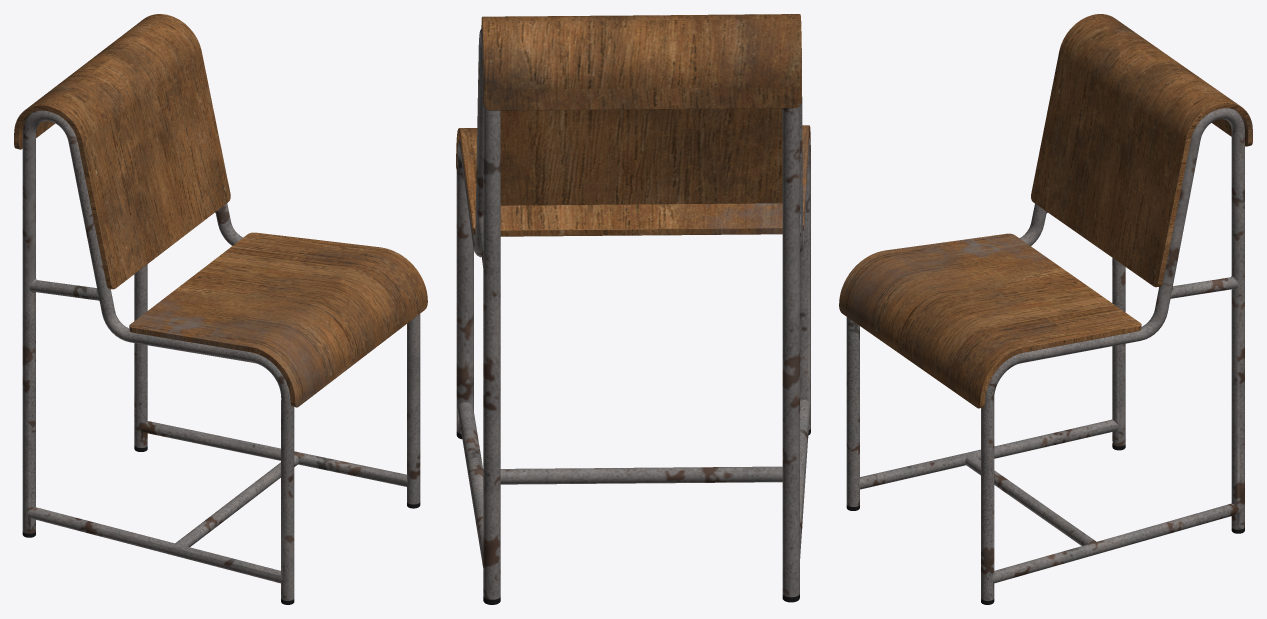
3 views of the same model, side by side, from view 1: azimuth 30°, elevation 25°; view 2: azimuth 150°, elevation 25°; view 3: azimuth 270°, elevation 25° (orthographic). The views are drawn at different scales.
Visible parts, largest first — view 1: Schienale_5800E2A1_C8D3_4395_842D_6A6AC5724DC0_, Seduta_2996FDD3_BA09_4187_B6E5_C03682797FD2_, Tubolare_891A3C75_E227_493F_87BD_283B9503571A_; view 2: Schienale_5800E2A1_C8D3_4395_842D_6A6AC5724DC0_, Tubolare_891A3C75_E227_493F_87BD_283B9503571A_, Seduta_2996FDD3_BA09_4187_B6E5_C03682797FD2_; view 3: Schienale_5800E2A1_C8D3_4395_842D_6A6AC5724DC0_, Seduta_2996FDD3_BA09_4187_B6E5_C03682797FD2_, Tubolare_891A3C75_E227_493F_87BD_283B9503571A_.
Part boxes in pixels (box(x1,y1,x2,y2)): Schienale_5800E2A1_C8D3_4395_842D_6A6AC5724DC0_: box(14, 14, 230, 289); Seduta_2996FDD3_BA09_4187_B6E5_C03682797FD2_: box(129, 232, 427, 407); Tubolare_891A3C75_E227_493F_87BD_283B9503571A_: box(22, 110, 420, 600); Schienale_5800E2A1_C8D3_4395_842D_6A6AC5724DC0_: box(481, 14, 801, 205); Tubolare_891A3C75_E227_493F_87BD_283B9503571A_: box(456, 27, 810, 599); Seduta_2996FDD3_BA09_4187_B6E5_C03682797FD2_: box(456, 125, 810, 236); Schienale_5800E2A1_C8D3_4395_842D_6A6AC5724DC0_: box(1031, 14, 1252, 287); Seduta_2996FDD3_BA09_4187_B6E5_C03682797FD2_: box(839, 233, 1141, 408); Tubolare_891A3C75_E227_493F_87BD_283B9503571A_: box(846, 108, 1244, 600).
Bounding box in the file's own units: 0.6456 × 0.793 × 0.6822.
Materials: 7 (3 with a texture image).
